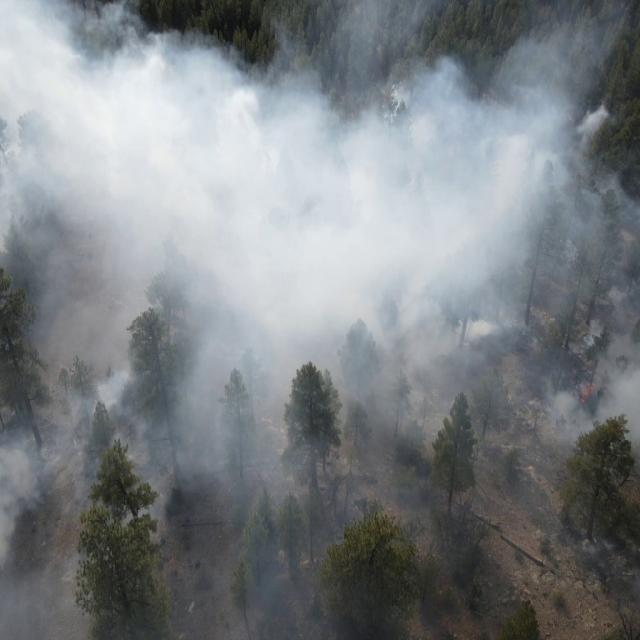fire: (567, 370, 609, 416)
smoke: (152, 31, 640, 640), (0, 2, 153, 640), (245, 1, 640, 32)
